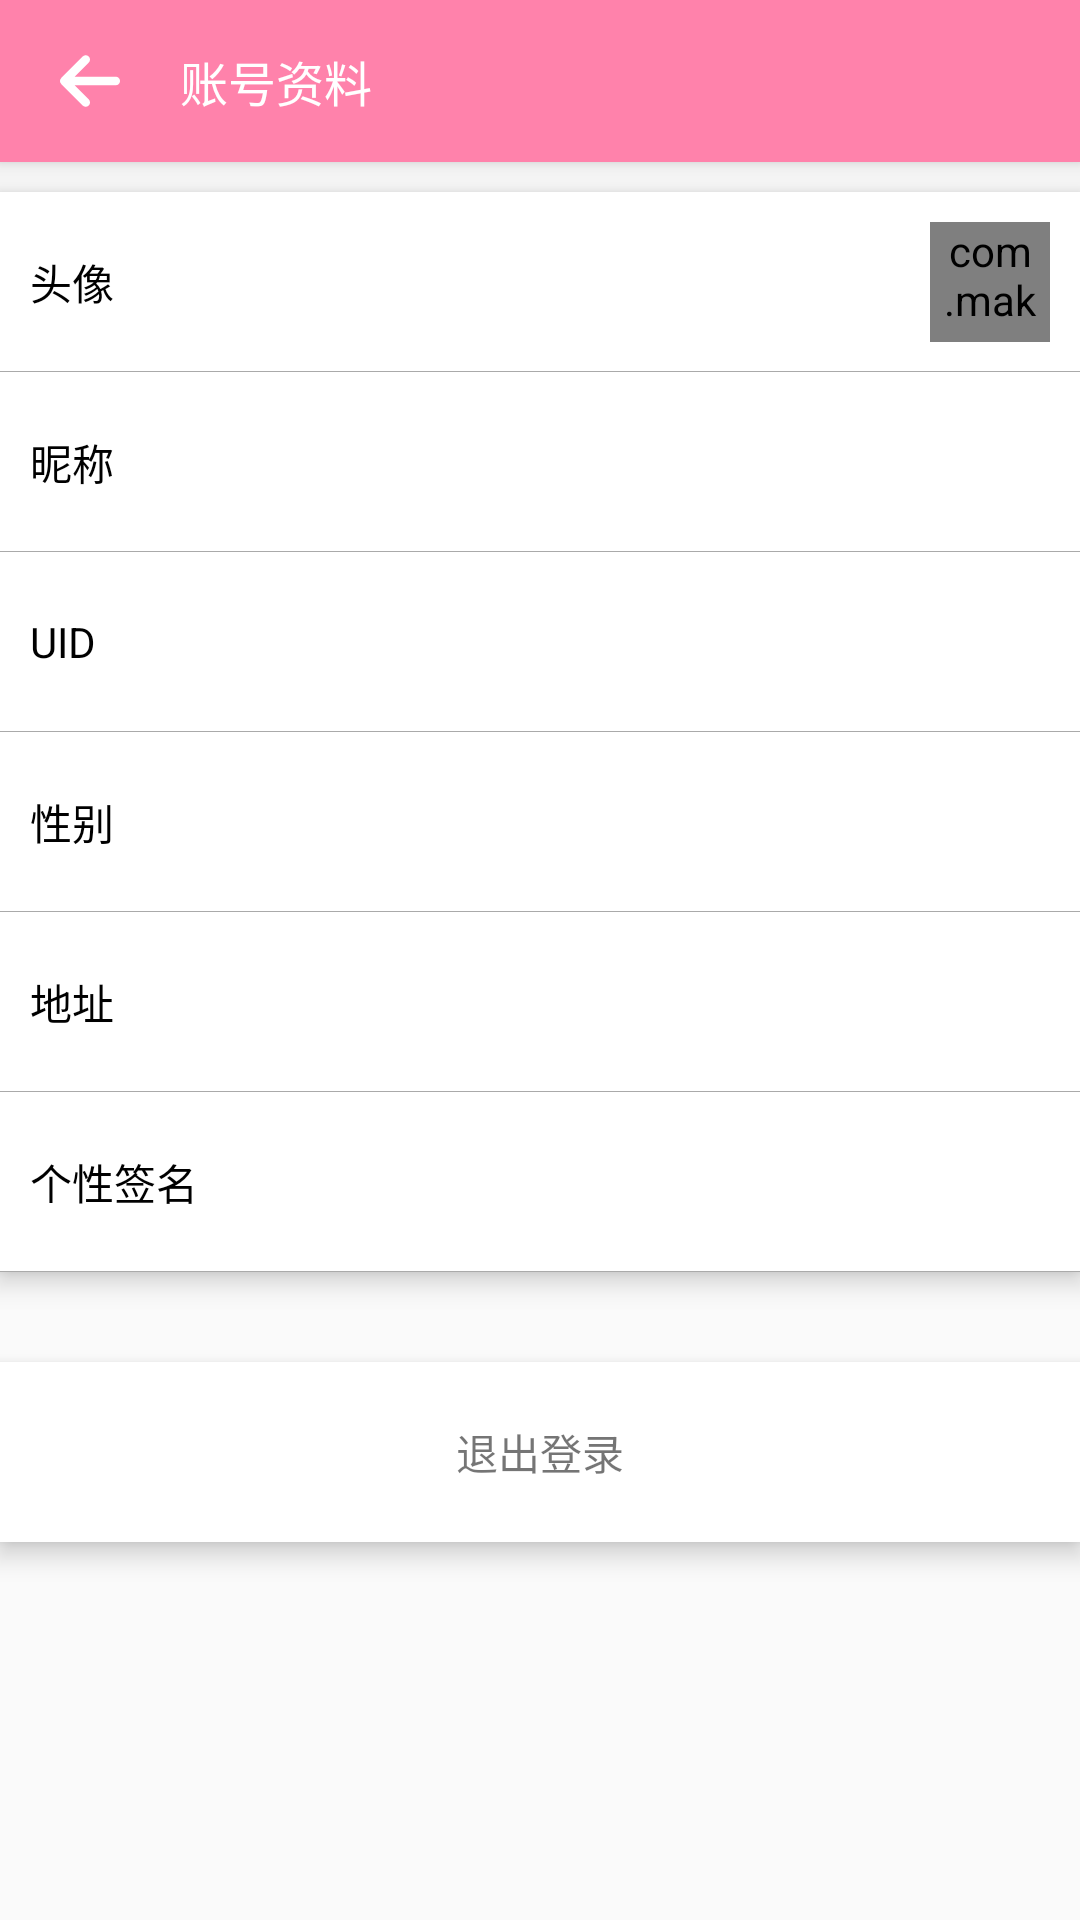

Named icons in this screenshot (1080 × 1920) and their centers, (x,y):
back: (90,81)
